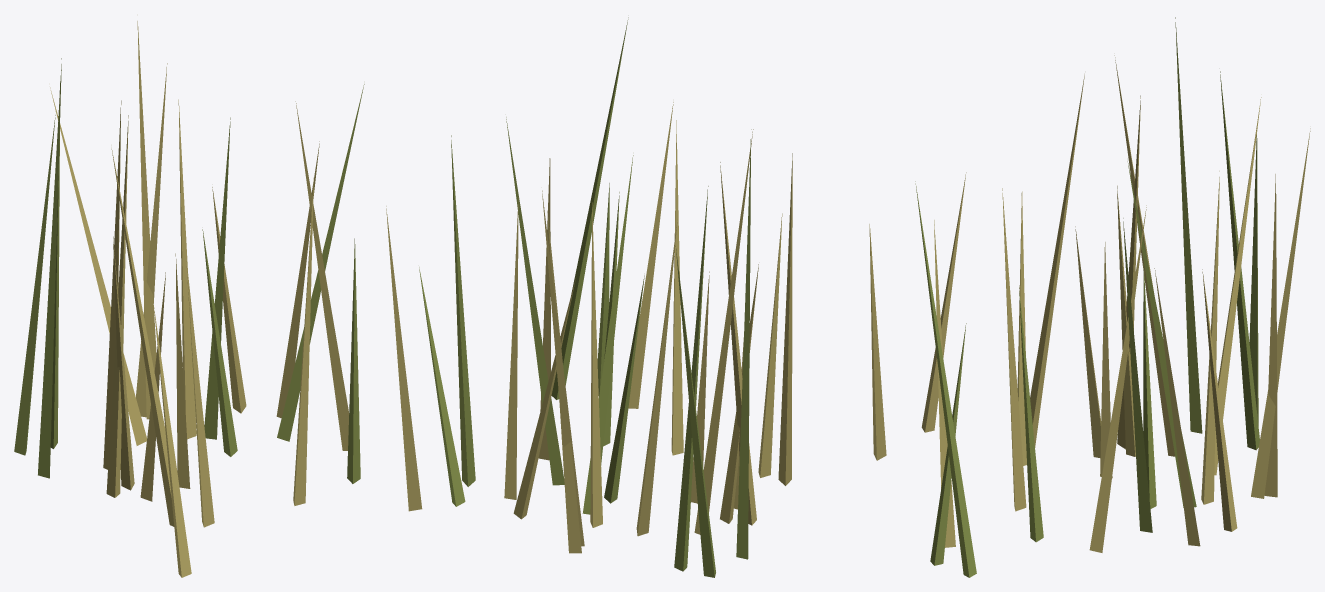
Rendered from vass_1.glb.
The picture shows the model from 3 angles, left to right: view 1: azimuth 30°, elevation 25°; view 2: azimuth 150°, elevation 25°; view 3: azimuth 270°, elevation 25°; orthographic projection.
Parts seen in each view (by area): view 1: vass_1; view 2: vass_1; view 3: vass_1.
Part boxes in pixels (bbox=[...]): vass_1: bbox=[14, 21, 475, 577]; vass_1: bbox=[504, 17, 886, 577]; vass_1: bbox=[915, 17, 1310, 577].
Bounding box in the file's own units: 1.89 × 2.38 × 2.03.
